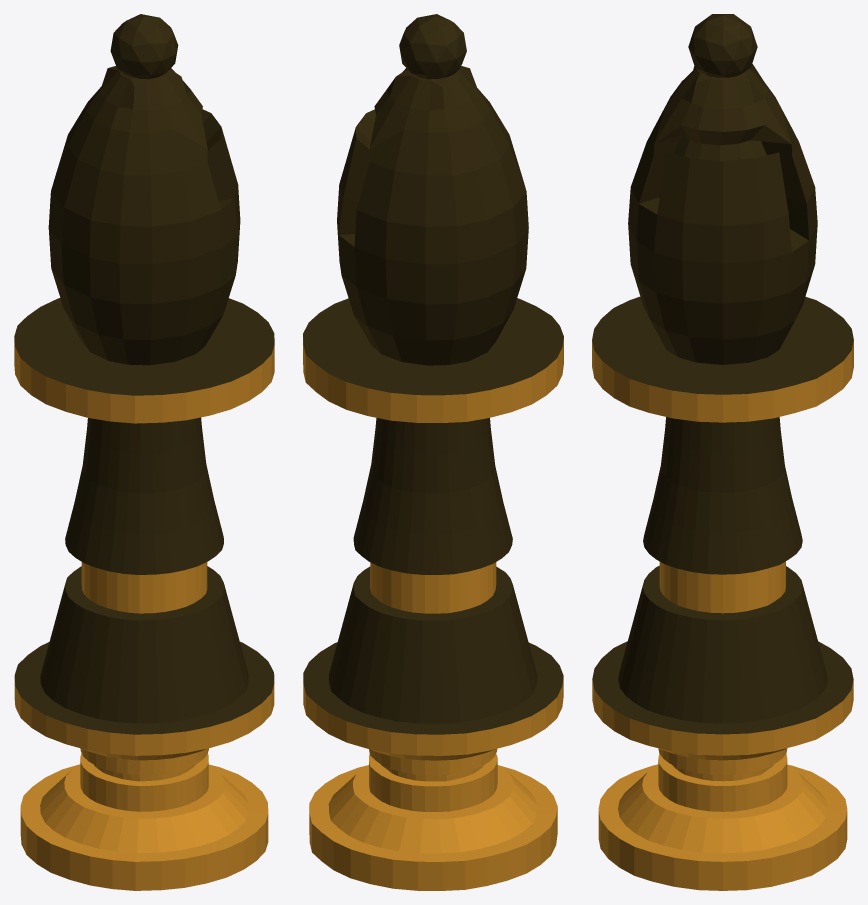
Rendered from metal_b_b.glb.
3 views of the same model, side by side, from view 1: azimuth 30°, elevation 25°; view 2: azimuth 150°, elevation 25°; view 3: azimuth 270°, elevation 25° (orthographic).
Parts seen in each view (by area): view 1: b1, b0; view 2: b1, b0; view 3: b1, b0.
Part boxes in pixels (bbox=[...]): b1: bbox=[14, 14, 274, 734]; b0: bbox=[14, 339, 274, 890]; b1: bbox=[303, 14, 563, 734]; b0: bbox=[303, 337, 563, 890]; b1: bbox=[592, 14, 853, 734]; b0: bbox=[592, 340, 853, 890].
Bounding box in the file's own units: 0.2595 × 0.9 × 0.2595.
